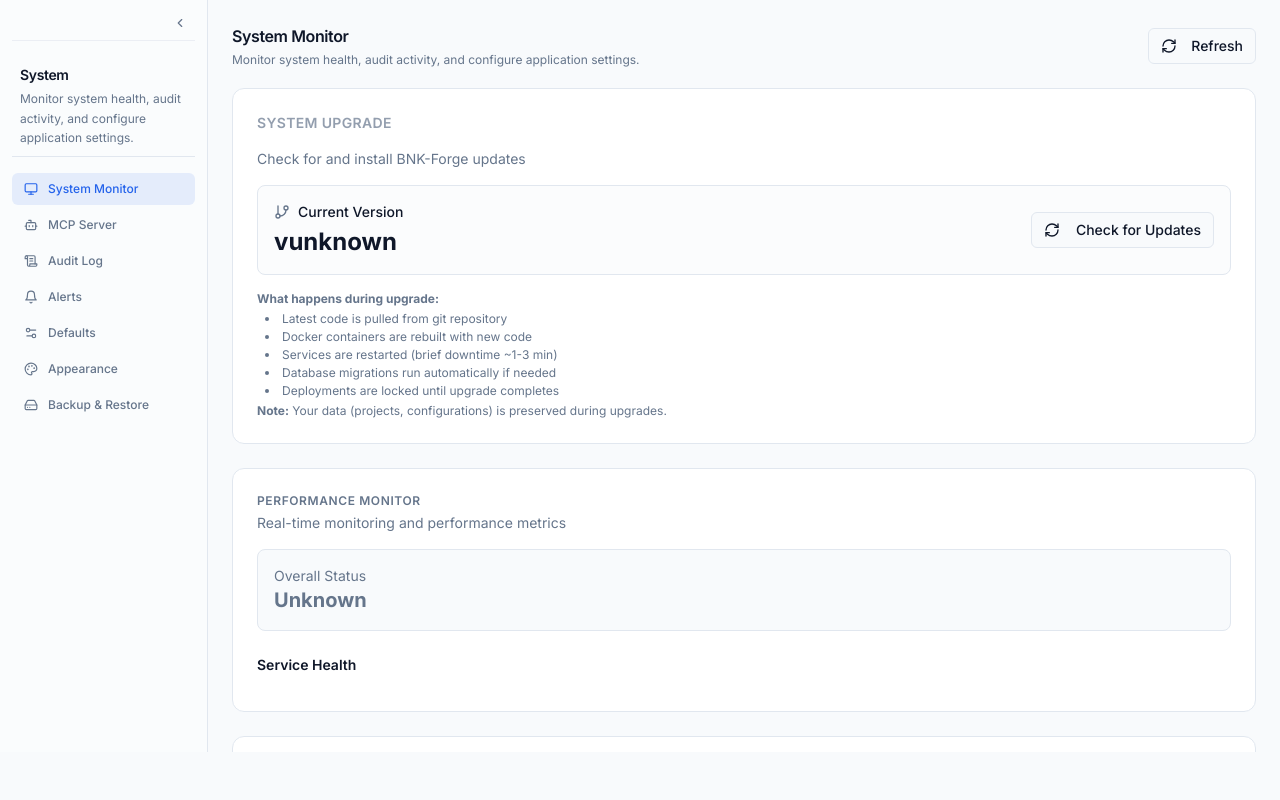
Test: System Administration — Integration › switches between tabs and renders corresponding content
Check: the heading "System" is shown, box [20,66,69,83]
// Click "Audit Log" tab
Click the tab "Audit Log" at (104, 260), box [12,244,195,276]
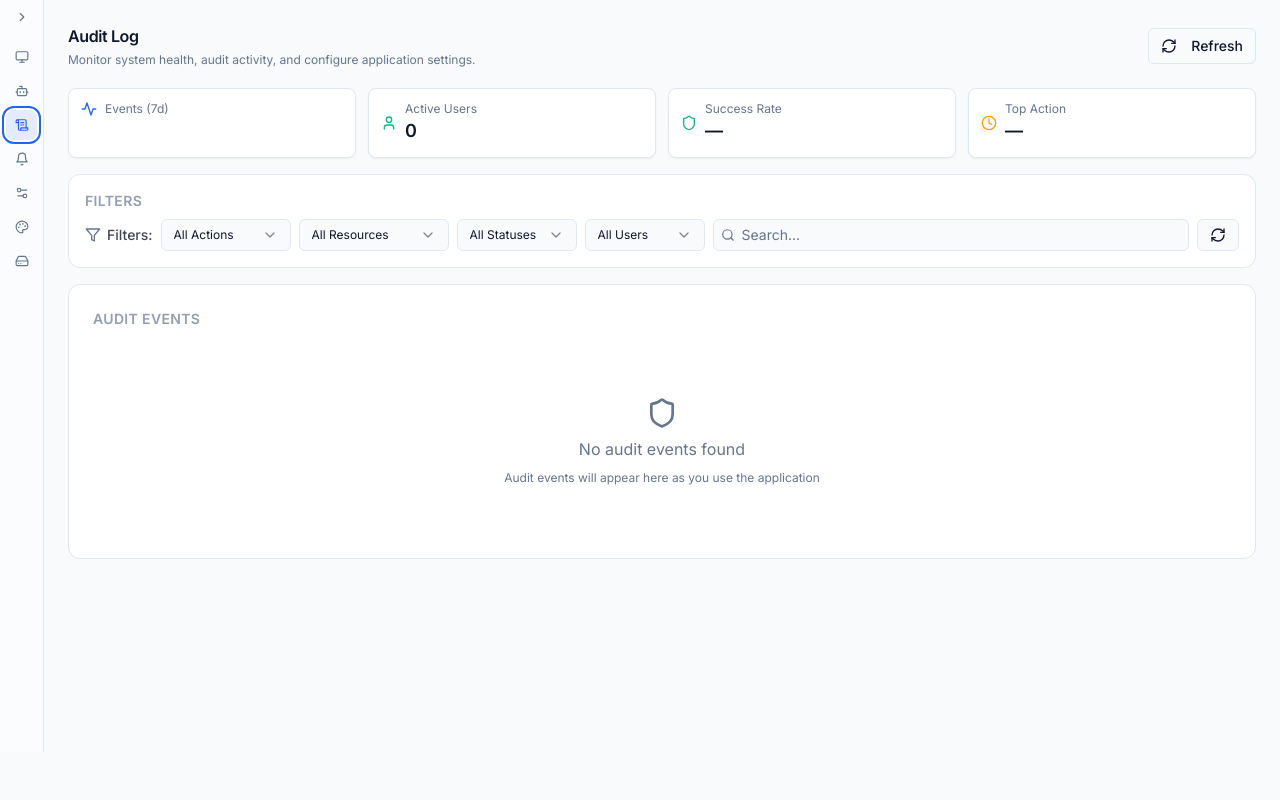
Check: the 3rd tab named "audit log" is selected, box [6,110,37,140]
// Click "Appearance" tab
Click the 6th tab named "appearance" at (22, 227), box [6,212,37,242]
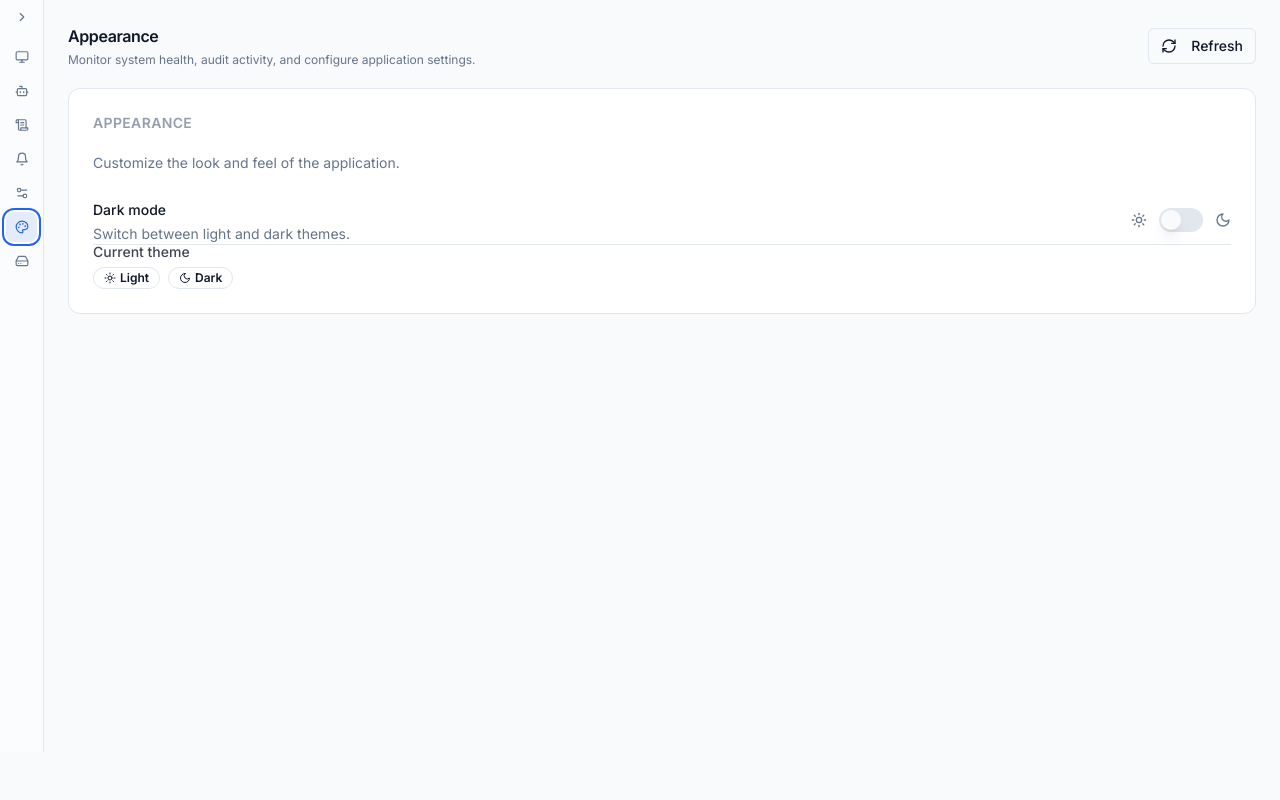
Check: the text "Dark mode" is shown, box [93,201,166,218]
